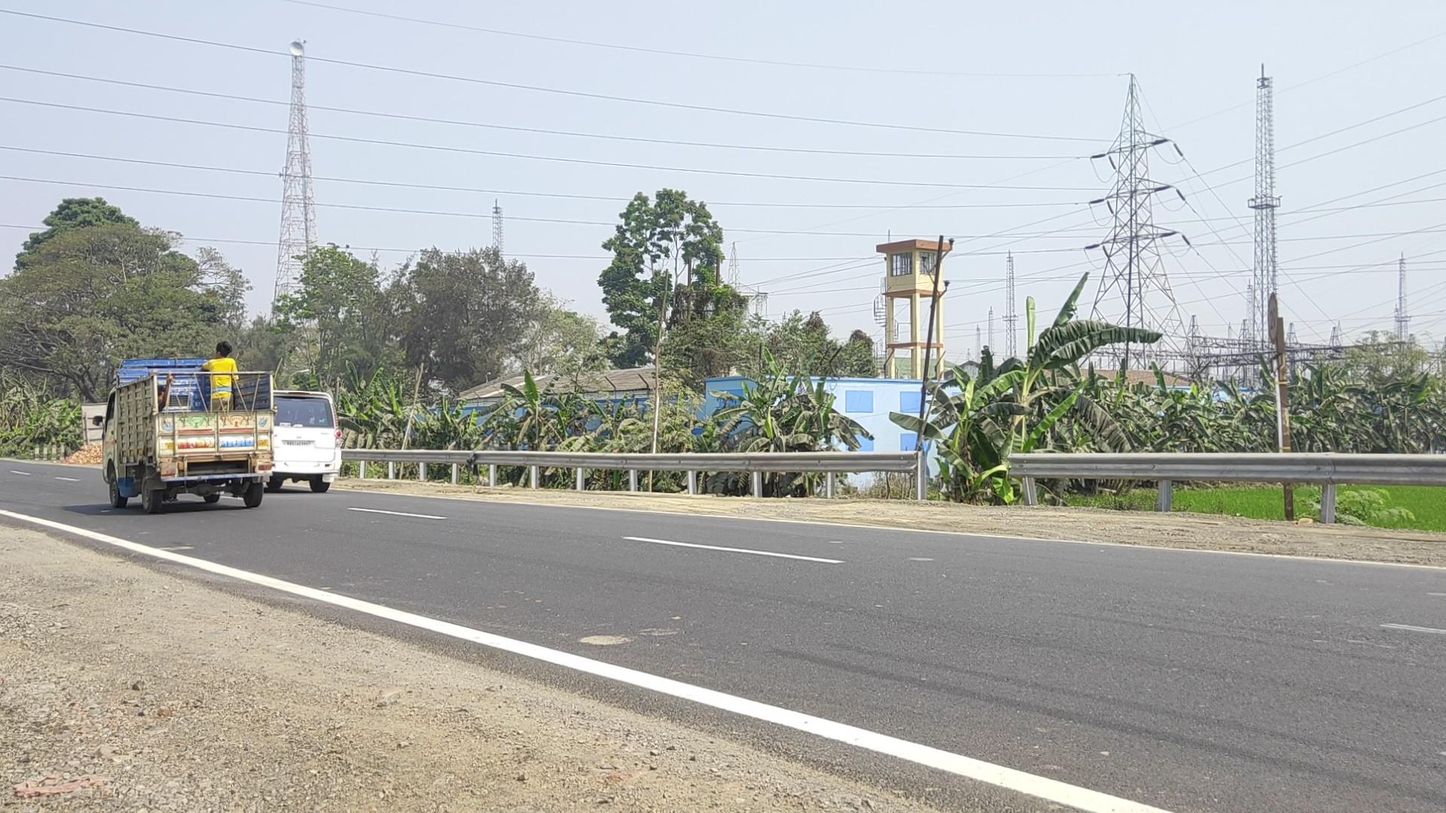car: (269, 389, 342, 496)
van: (92, 341, 277, 513)
